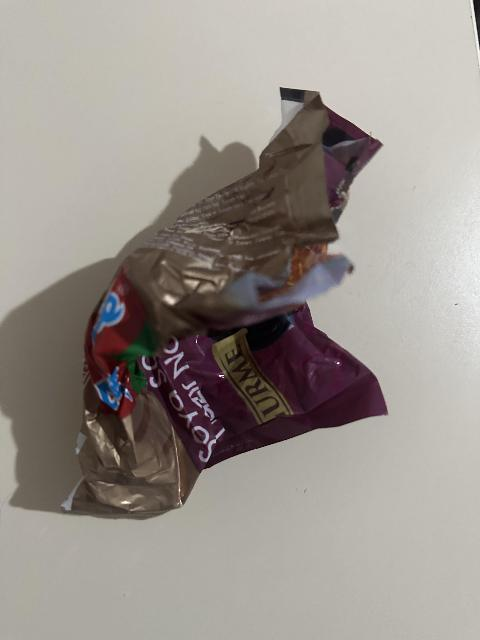Plastik: (65, 79, 392, 522)
